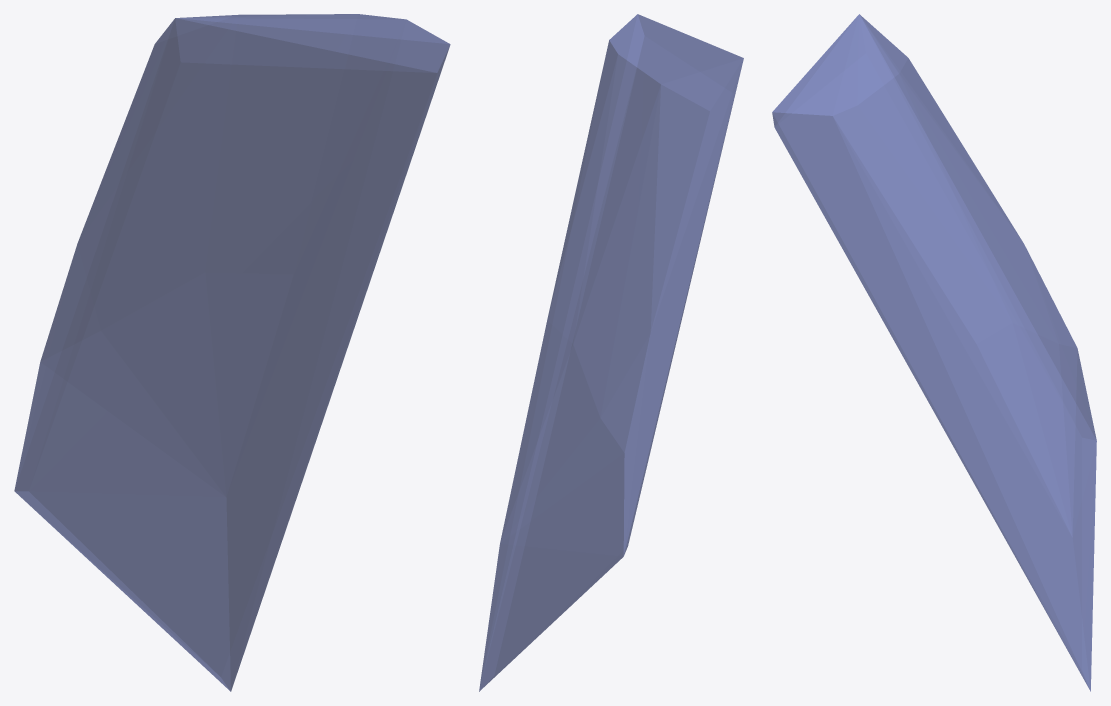
3 views of the same model, side by side, from view 1: azimuth 30°, elevation 25°; view 2: azimuth 150°, elevation 25°; view 3: azimuth 270°, elevation 25° (orthographic). The views are drawn at different scales.
Visible parts, largest first — view 1: Shape_IndexedFaceSet.025_Shape_IndexedFaceSet.9833; view 2: Shape_IndexedFaceSet.025_Shape_IndexedFaceSet.9833; view 3: Shape_IndexedFaceSet.025_Shape_IndexedFaceSet.9833.
Boxes of the visible parts, x1,y1,x2,y2 form: Shape_IndexedFaceSet.025_Shape_IndexedFaceSet.9833: (14, 14, 450, 691); Shape_IndexedFaceSet.025_Shape_IndexedFaceSet.9833: (479, 14, 743, 691); Shape_IndexedFaceSet.025_Shape_IndexedFaceSet.9833: (772, 14, 1096, 691).
Size of the model in its own units: 0.1226 by 0.4537 by 0.2218.
